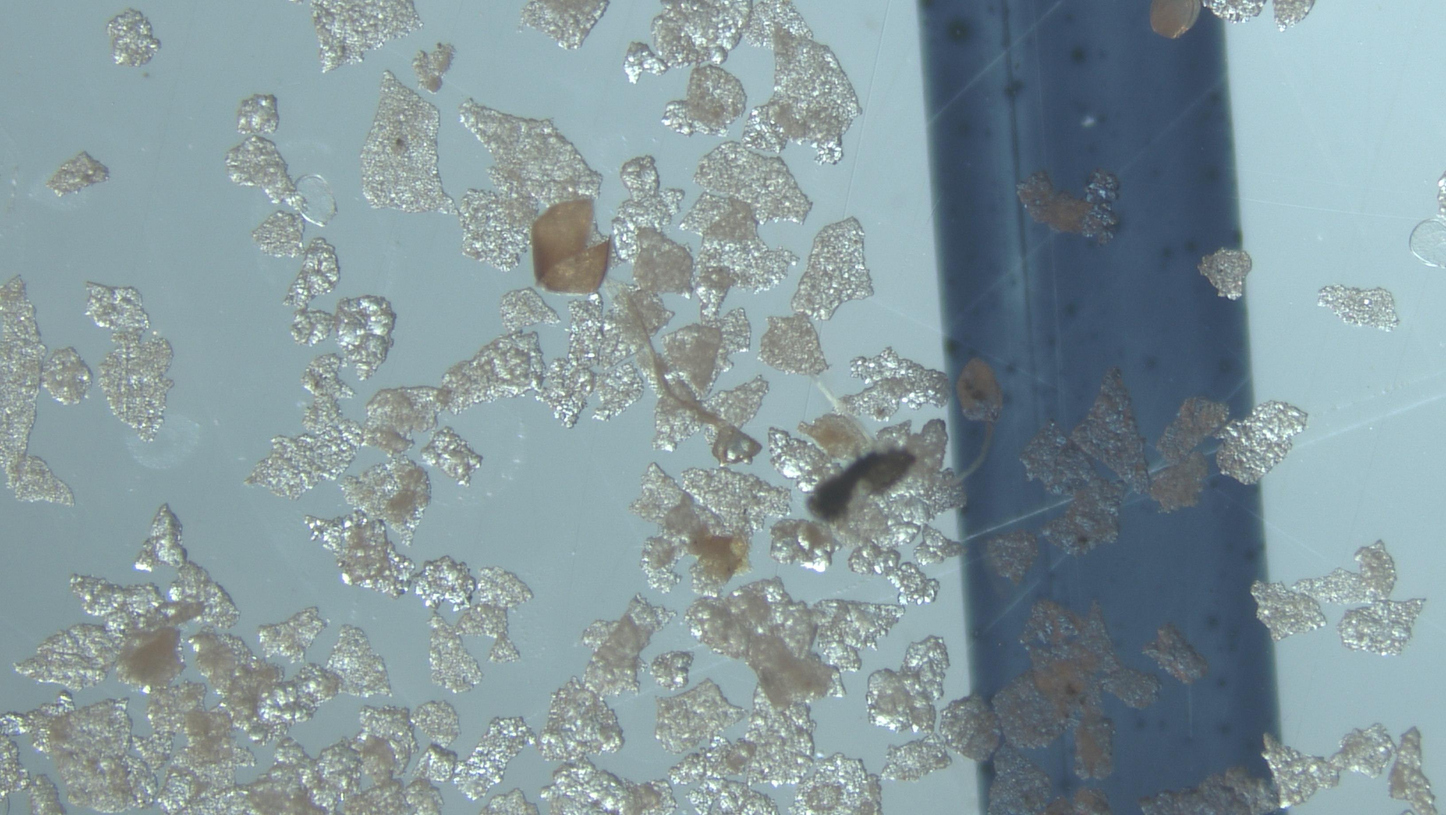dead: (295, 175, 336, 226), (1410, 218, 1446, 268)
live: (1150, 0, 1201, 39)
